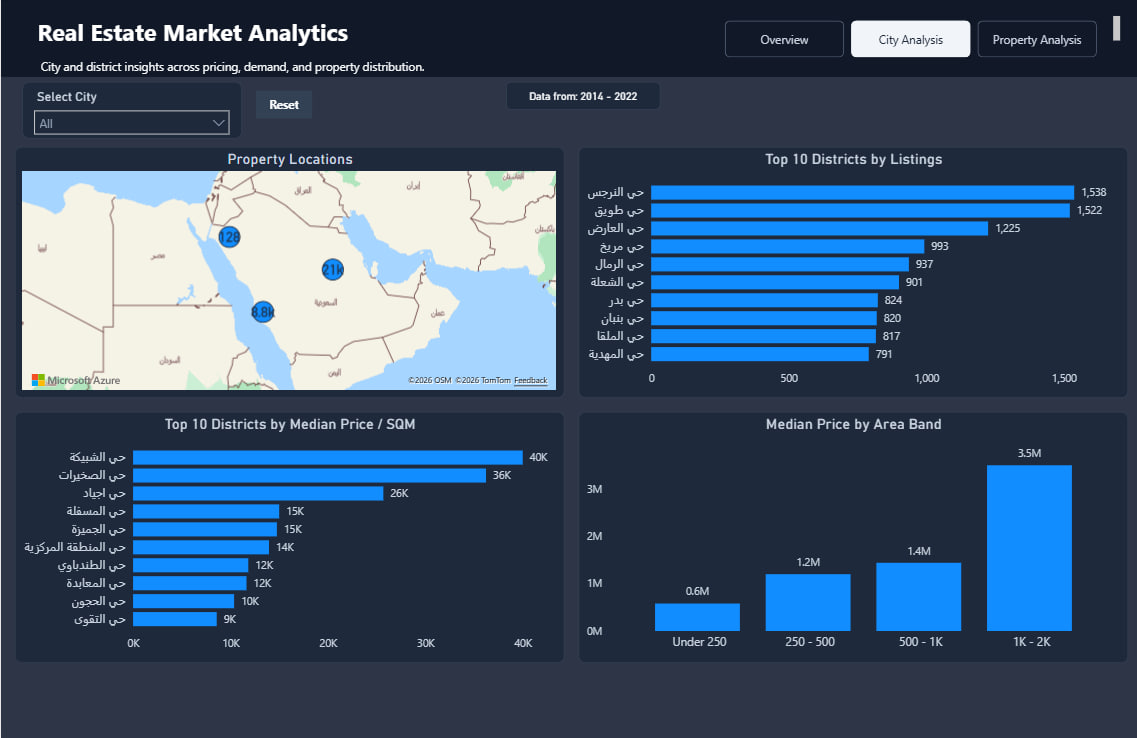

What the dashboard file says about the page in this screenshot:
{"tool":"powerbi","page":{"name":"City Analysis","canvas":[1300,850],"ordinal":1},"visuals":[{"type":"shape","box":[0,0,1300,90],"z":0},{"type":"textbox","box":[0,16,1280,48],"z":1000},{"type":"textbox","box":[0,64,1280,48],"z":2000},{"type":"slicer","fields":{"Values":["powerbi_real_estate_dashboard.City"]},"box":[24,96,250,65],"z":3000},{"type":"azureMap","title":"Property Locations ","fields":{"Y":["powerbi_real_estate_dashboard.latitude"],"X":["powerbi_real_estate_dashboard.longitude"]},"box":[16,170,626,286],"z":4000},{"type":"clusteredBarChart","title":"Top 10 Districts by Listings","fields":{"Y":["powerbi_real_estate_dashboard.Total Listings"],"Category":["powerbi_real_estate_dashboard.district"]},"box":[658,170,626,286],"z":5000},{"type":"clusteredBarChart","title":"Top 10 Districts by Median Price / SQM","fields":{"Category":["powerbi_real_estate_dashboard.district"],"Y":["powerbi_real_estate_dashboard.Median Price per SQM"]},"box":[16,472,626,286],"z":6000},{"type":"clusteredColumnChart","title":"Median Price by Area Band","fields":{"Category":["powerbi_real_estate_dashboard.Area Band"],"Y":["powerbi_real_estate_dashboard.Median Price"]},"box":[658,472,626,286],"z":7000},{"type":"pageNavigator","box":[825,25,425,42],"z":8000},{"type":"actionButton","box":[290,105,64,32],"z":9000},{"type":"card","fields":{"Values":["powerbi_real_estate_dashboard.Last Refresh Clean"]},"box":[576,96,176,32],"z":10000}]}

Visuals, with their boxes in screenshot pixels (x1, y1, x2, y2), scaled from the page's 1300x850 canvas onto the 1137x738 screenshot:
shape: 0/0/1136/78
textbox: 0/14/1120/56
textbox: 0/56/1120/97
slicer - powerbi_real_estate_dashboard.City: 21/83/240/140
"Property Locations " azureMap: 14/148/562/396
"Top 10 Districts by Listings" clusteredBarChart: 575/148/1123/396
"Top 10 Districts by Median Price / SQM" clusteredBarChart: 14/410/562/658
"Median Price by Area Band" clusteredColumnChart: 575/410/1123/658
pageNavigator: 722/22/1093/58
actionButton: 254/91/310/119
card - powerbi_real_estate_dashboard.Last Refresh Clean: 504/83/658/111
